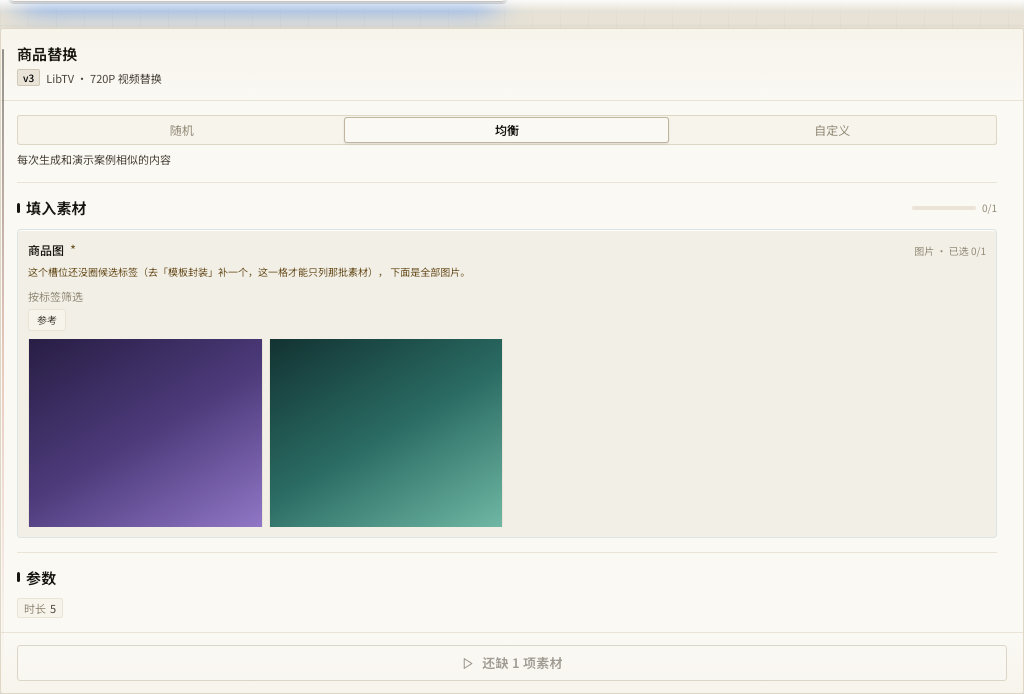
模板库 · 随机性三档 › 均衡档提交：不换提示词，走主提示词
(page scrolled)
expect the text "商品图" is shown: met, box [28,241,64,259]
Click the button titled "商品图.png" at (145, 433), box [28,316,262,550]
(page scrolled)
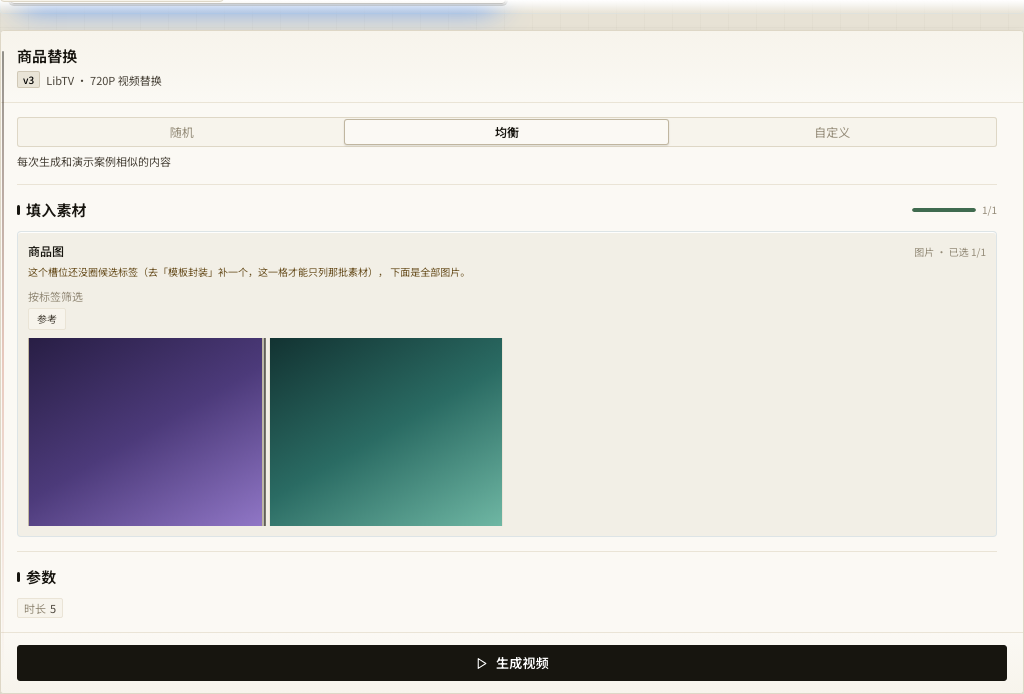
Click the button "生成视频" at (512, 663), box [17,645,1007,681]
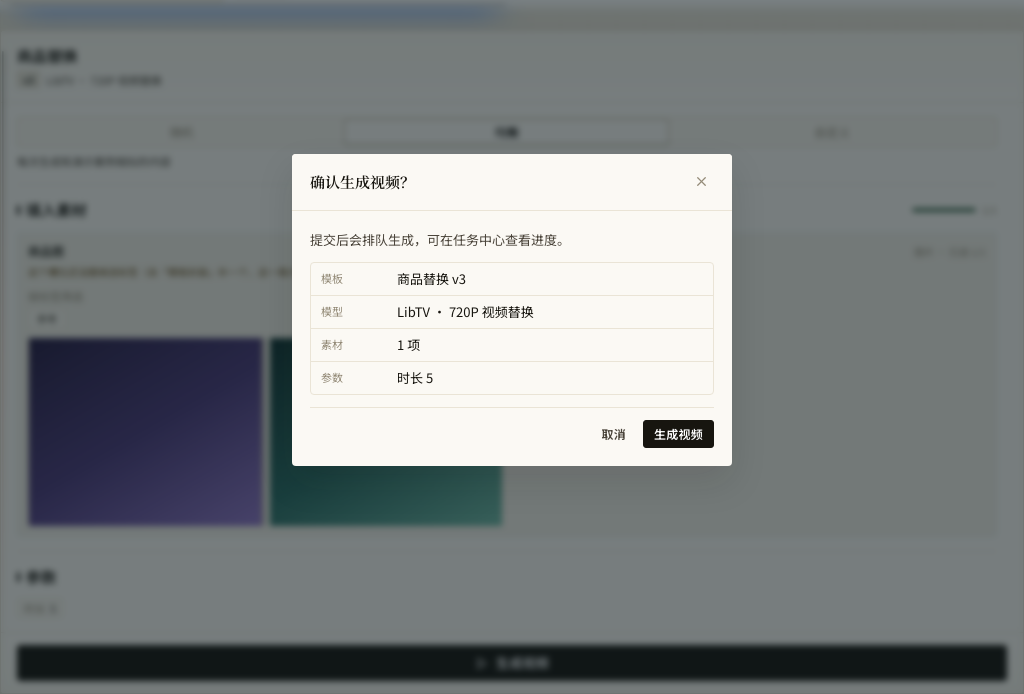
Click the button "生成视频" at (678, 434), box [643,420,714,448]
(page scrolled)
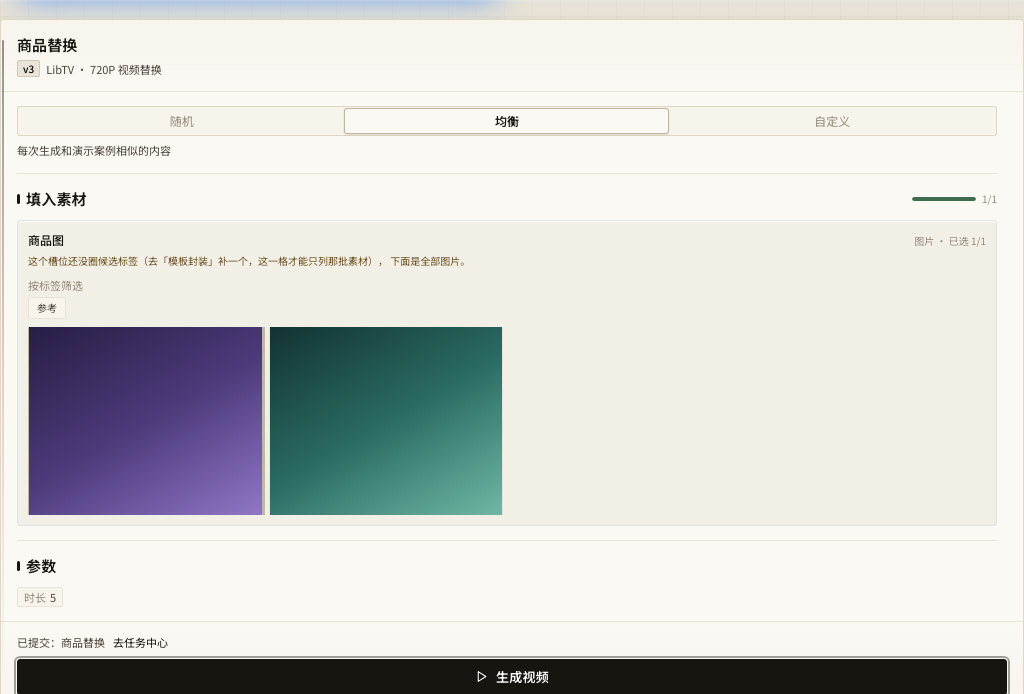
expect the dialog is gone: met
